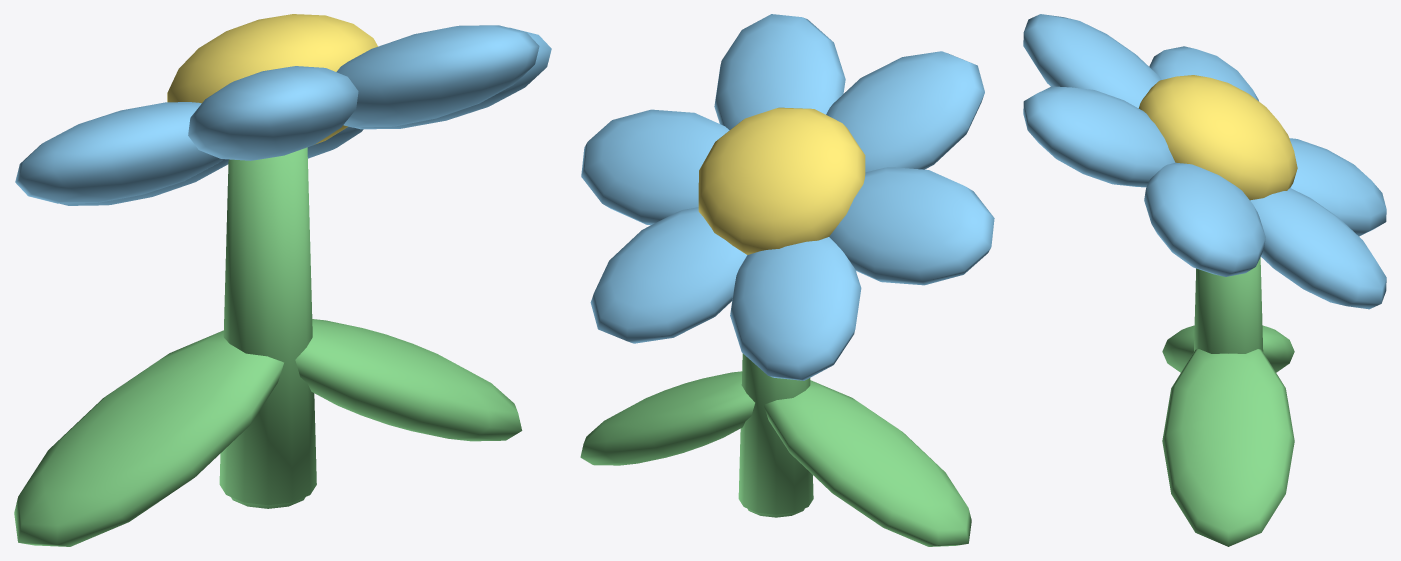
Rendered from flower_daisy_blue.glb.
3 views of the same model, side by side, from view 1: azimuth 30°, elevation 25°; view 2: azimuth 150°, elevation 25°; view 3: azimuth 270°, elevation 25° (orthographic). The views are drawn at different scales.
Parts seen in each view (by area): view 1: Leaf_-1, Stem, Leaf_1, Petal_5, Petal_3, Petal_4, ButtonCenter, Petal_0, Petal_2, Petal_1; view 2: ButtonCenter, Leaf_-1, Petal_2, Petal_3, Petal_1, Petal_4, Petal_0, Petal_5, Leaf_1, Stem; view 3: Leaf_1, ButtonCenter, Petal_5, Petal_0, Petal_1, Petal_4, Stem, Petal_2, Petal_3, Leaf_-1.
Boxes of the visible parts, x1=… form: Leaf_-1: x1=14, y1=330, x2=283, y2=546; Stem: x1=219, y1=147, x2=316, y2=508; Leaf_1: x1=295, y1=319, x2=522, y2=441; Petal_5: x1=336, y1=25, x2=539, y2=127; Petal_3: x1=15, y1=102, x2=223, y2=203; Petal_4: x1=188, y1=66, x2=358, y2=160; ButtonCenter: x1=167, y1=14, x2=377, y2=144; Petal_0: x1=353, y1=27, x2=551, y2=129; Petal_2: x1=59, y1=159, x2=228, y2=205; Petal_1: x1=307, y1=126, x2=363, y2=158; ButtonCenter: x1=698, y1=107, x2=865, y2=254; Leaf_-1: x1=764, y1=380, x2=971, y2=546; Petal_2: x1=730, y1=237, x2=861, y2=380; Petal_3: x1=829, y1=167, x2=994, y2=285; Petal_1: x1=590, y1=207, x2=747, y2=343; Petal_4: x1=826, y1=51, x2=984, y2=172; Petal_0: x1=581, y1=109, x2=729, y2=225; Petal_5: x1=714, y1=14, x2=845, y2=130; Leaf_1: x1=580, y1=371, x2=754, y2=465; Stem: x1=738, y1=353, x2=813, y2=517; Leaf_1: x1=1162, y1=349, x2=1294, y2=546; ButtonCenter: x1=1138, y1=75, x2=1297, y2=200; Petal_5: x1=1023, y1=86, x2=1175, y2=187; Petal_0: x1=1144, y1=162, x2=1265, y2=276; Petal_1: x1=1250, y1=188, x2=1386, y2=309; Petal_4: x1=1023, y1=14, x2=1161, y2=108; Stem: x1=1194, y1=257, x2=1263, y2=353; Petal_2: x1=1289, y1=138, x2=1386, y2=236; Petal_3: x1=1149, y1=46, x2=1258, y2=101; Leaf_-1: x1=1162, y1=325, x2=1294, y2=372.
Bounding box in the file's own units: 0.4 × 0.3754 × 0.3086.
